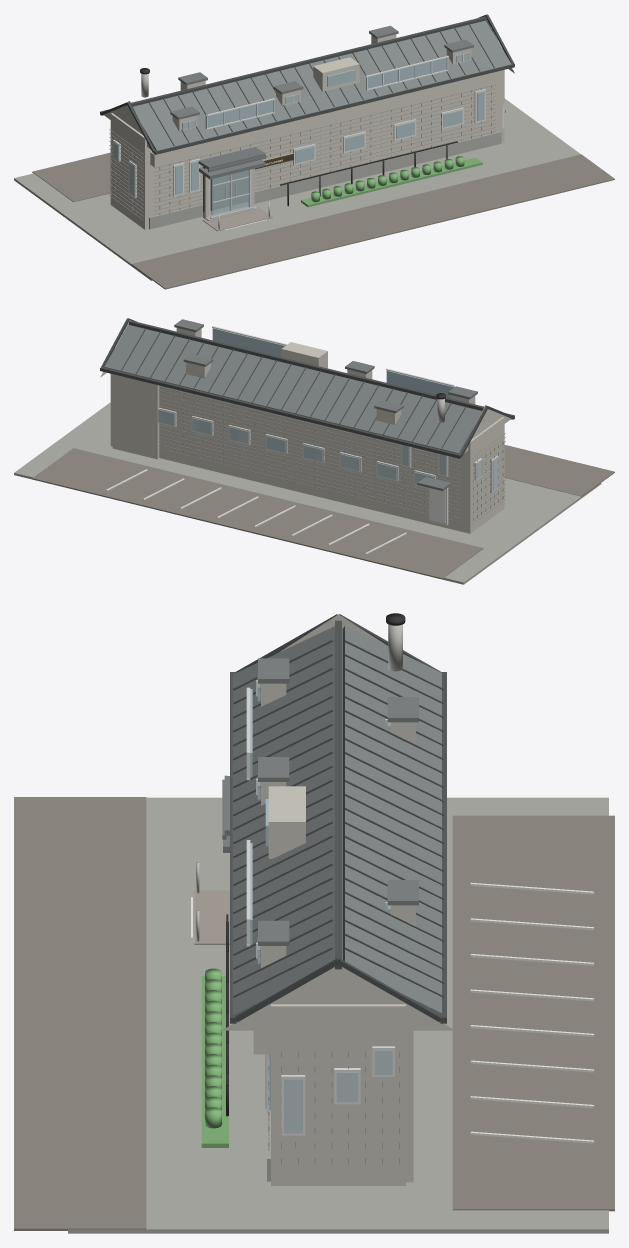
Rendered from history_library.glb.
3 views of the same model, one above another, from view 1: azimuth 30°, elevation 25°; view 2: azimuth 150°, elevation 25°; view 3: azimuth 270°, elevation 25° (orthographic). The views are drawn at different scales.
Visible parts, largest first — view 1: SHL1_RoadFront, SHL1_MainBuilding, SHL1_Ground, SHL1_Roof_LeftSlope, SHL1_FrontUpperOverhang, SHL1_LowerFoundation, SHL1_ParkingLot, SHL1_Roof_Ridge, SHL1_Roof_FrontGutter, SHL1_FrontGrassStrip, SHL_ENT_Entrance_DarkBack, SHL1_CenterRoofRaisedBlock (+9 smaller); view 2: SHL1_MainBuilding, SHL1_ParkingLot, SHL1_Roof_RightSlope, SHL1_Ground, SHL1_RightSideBlock, SHL1_RoadFront, SHL1_Roof_Ridge, SHL1_Roof_BackGutter, SHL1_RoofWindow_Right_Glass, SHL1_RoofWindow_Left_Glass, SHL1_CenterRoofRaisedBlock, SHL2_BackDoor_Door (+3 smaller); view 3: SHL1_ParkingLot, SHL1_Ground, SHL1_RoadFront, SHL1_Roof_RightSlope, SHL1_Roof_LeftSlope, SHL1_MainBuilding, SHL2_RightGableWall, SHL1_CenterRoofRaisedBlock, SHL1_Roof_Ridge, SHL_ENT_Entrance_FrontFloor, SHL1_FrontGrassStrip, SHL1_Roof_BackGutter (+9 smaller).
Part boxes in pixels (left/top/right/bottom): SHL1_RoadFront: left=131, top=154, right=614, bottom=289; SHL1_MainBuilding: left=110, top=70, right=504, bottom=229; SHL1_Ground: left=14, top=98, right=580, bottom=280; SHL1_Roof_LeftSlope: left=133, top=20, right=511, bottom=150; SHL1_FrontUpperOverhang: left=150, top=70, right=503, bottom=167; SHL1_LowerFoundation: left=149, top=131, right=501, bottom=229; SHL1_ParkingLot: left=32, top=152, right=110, bottom=202; SHL1_Roof_Ridge: left=131, top=16, right=486, bottom=106; SHL1_Roof_FrontGutter: left=153, top=63, right=514, bottom=154; SHL1_FrontGrassStrip: left=301, top=157, right=482, bottom=207; SHL_ENT_Entrance_DarkBack: left=203, top=167, right=247, bottom=211; SHL1_CenterRoofRaisedBlock: left=313, top=57, right=359, bottom=91; SHL1_MainBuilding: left=110, top=374, right=504, bottom=533; SHL1_ParkingLot: left=32, top=448, right=483, bottom=579; SHL1_Roof_RightSlope: left=104, top=325, right=481, bottom=453; SHL1_Ground: left=14, top=402, right=601, bottom=584; SHL1_RightSideBlock: left=112, top=374, right=159, bottom=459; SHL1_RoadFront: left=504, top=445, right=614, bottom=496; SHL1_Roof_Ridge: left=128, top=320, right=483, bottom=410; SHL1_Roof_BackGutter: left=100, top=367, right=461, bottom=458; SHL1_RoofWindow_Right_Glass: left=212, top=328, right=285, bottom=356; SHL1_RoofWindow_Left_Glass: left=386, top=370, right=453, bottom=398; SHL1_CenterRoofRaisedBlock: left=281, top=342, right=327, bottom=368; SHL2_BackDoor_Door: left=430, top=488, right=445, bottom=522; SHL1_ParkingLot: left=452, top=815, right=614, bottom=1211; SHL1_Ground: left=68, top=797, right=608, bottom=1233; SHL1_RoadFront: left=14, top=797, right=146, bottom=1230; SHL1_Roof_RightSlope: left=343, top=626, right=441, bottom=1015; SHL1_Roof_LeftSlope: left=232, top=626, right=342, bottom=1015; SHL1_MainBuilding: left=271, top=1004, right=405, bottom=1185; SHL2_RightGableWall: left=222, top=959, right=454, bottom=1030; SHL1_CenterRoofRaisedBlock: left=268, top=786, right=305, bottom=858; SHL1_Roof_Ridge: left=335, top=620, right=341, bottom=969; SHL_ENT_Entrance_FrontFloor: left=194, top=890, right=229, bottom=944; SHL1_FrontGrassStrip: left=201, top=976, right=228, bottom=1147; SHL1_Roof_BackGutter: left=440, top=672, right=446, bottom=1023.
Bounding box in the file's own units: 17 × 4.85 × 10.
